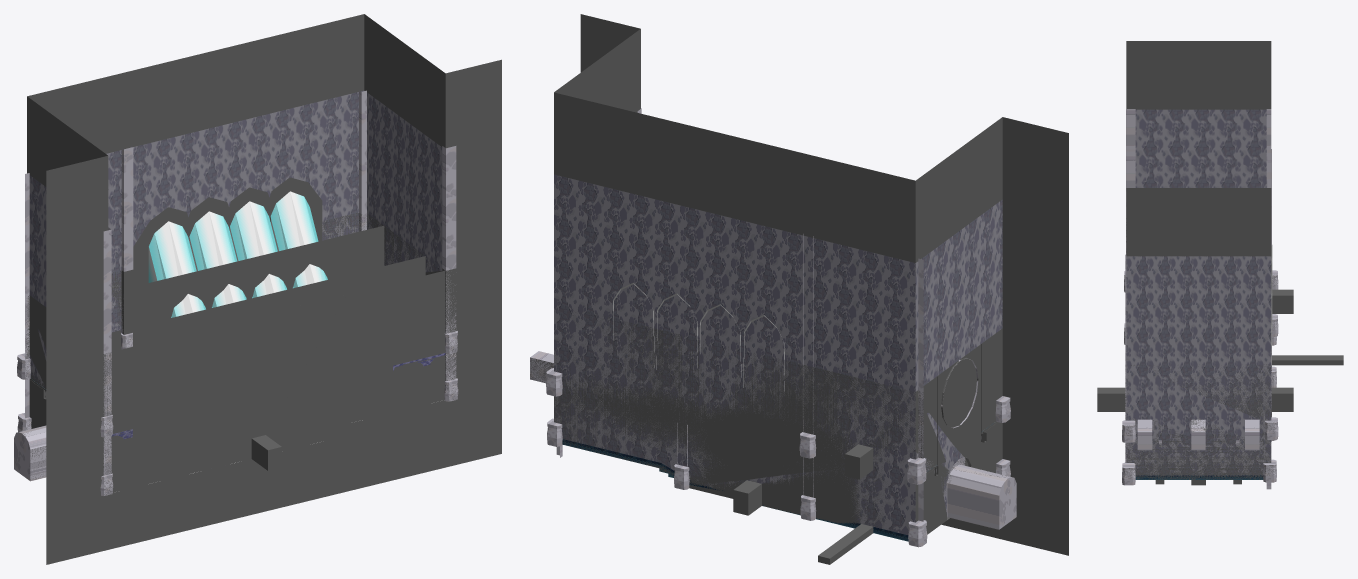
Rendered from jin_00_bake.dae.
The picture shows the model from 3 angles, left to right: view 1: azimuth 30°, elevation 25°; view 2: azimuth 150°, elevation 25°; view 3: azimuth 270°, elevation 25°; orthographic projection. The views are drawn at different scales.
Parts seen in each view (by area): view 1: MASUKU, S_kabe_oku_part0, polySurface112, polySurface116, polySurface114, polySurface115, S_side_r_part0, polySurface144, polySurface146, hikariA, hikariD, hikariB (+24 smaller); view 2: S_kabe_oku_part0, MASUKU, polySurface121, S_kabe_l_part0, polySurface124, a_gawa03, polySurface118, polySurface120, S_kabe_l_part2, S_kabe_oku_part2, pCube13_q00123, S_kabe_oku_part1; view 3: S_side_r_part0, MASUKU, S_kabe_l_part0, polySurface110, S_kabe_oku_part2, S_side_r_part2, pCube15_q00125, A_gjin00_s_bero2, S_side_r_part1, pCube16_q00126.
Part boxes in pixels (x1,y1,x2,y2): MASUKU: [27, 14, 501, 564]; S_kabe_oku_part0: [106, 90, 363, 333]; polySurface112: [347, 263, 473, 435]; polySurface116: [181, 314, 265, 475]; polySurface114: [265, 294, 347, 451]; polySurface115: [80, 335, 181, 499]; S_side_r_part0: [364, 90, 442, 272]; polySurface144: [263, 225, 384, 289]; polySurface146: [169, 255, 263, 318]; hikariA: [148, 221, 205, 317]; hikariD: [270, 191, 327, 288]; hikariB: [189, 211, 246, 307]; S_kabe_oku_part0: [554, 174, 915, 534]; MASUKU: [554, 14, 1068, 555]; polySurface121: [746, 353, 837, 522]; S_kabe_l_part0: [915, 199, 1002, 513]; polySurface124: [659, 329, 746, 498]; a_gawa03: [915, 328, 1006, 534]; polySurface118: [554, 312, 659, 467]; polySurface120: [837, 373, 915, 538]; S_kabe_l_part2: [947, 457, 1016, 529]; S_kabe_oku_part2: [733, 444, 873, 564]; pCube13_q00123: [918, 258, 923, 521]; S_kabe_oku_part1: [562, 439, 908, 541]; S_side_r_part0: [1126, 256, 1271, 475]; MASUKU: [1126, 41, 1271, 256]; S_kabe_l_part0: [1135, 109, 1266, 187]; polySurface110: [1126, 364, 1271, 479]; S_kabe_oku_part2: [1272, 289, 1343, 411]; S_side_r_part2: [1137, 419, 1259, 450]; pCube15_q00125: [1126, 109, 1135, 253]; A_gjin00_s_bero2: [1097, 387, 1125, 411]; S_side_r_part1: [1135, 475, 1263, 479]; pCube16_q00126: [1125, 254, 1126, 462].
Size of the model in its own units: 162 by 134 by 85.
